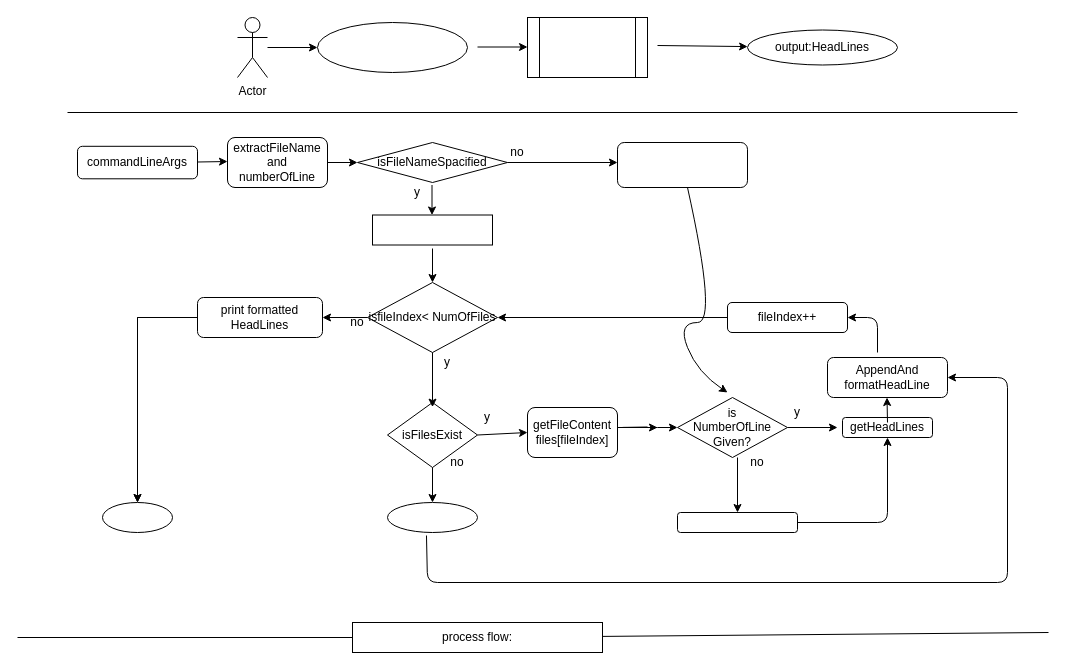
Image size: 1067x670. Some labels were removed from this diagram. The shapes that lost their labels are listed below. From the top down, each one's box as (x1, y1, x2, y2) in pixels, then its label:
(316, 22, 468, 72): node head.js a.txt
(526, 16, 648, 78): readFile and get headLines of the file
(616, 142, 748, 188): standard input NumOfFilesLength = 0
(372, 214, 492, 245): fileIndex=0
(102, 502, 172, 532): stop
(386, 502, 478, 532): "file doesn't exist "
(676, 512, 798, 532): numberOfLine = 10
